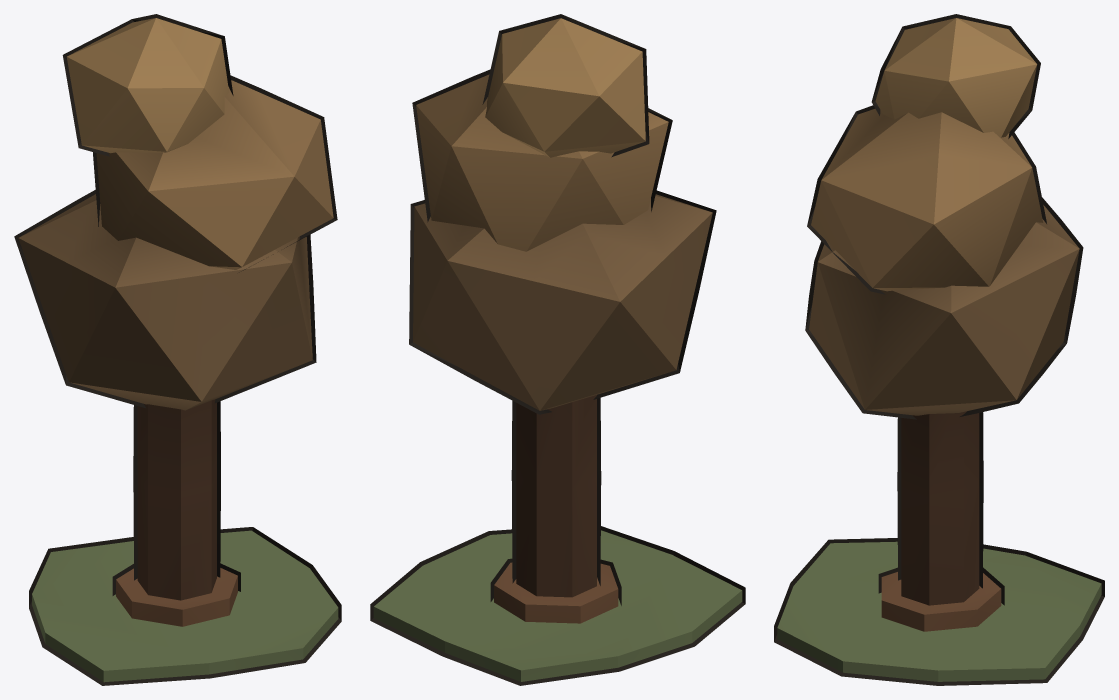
The model's file is arbre_automne.glb.
3 views of the same model, side by side, from view 1: azimuth 30°, elevation 25°; view 2: azimuth 150°, elevation 25°; view 3: azimuth 270°, elevation 25° (orthographic).
Parts seen in each view (by area): view 1: arbre_automne, arbre_automne_outline; view 2: arbre_automne, arbre_automne_outline; view 3: arbre_automne, arbre_automne_outline.
Part boxes in pixels (left/top/right/bottom): arbre_automne: left=18, top=18, right=338, bottom=682; arbre_automne_outline: left=14, top=14, right=341, bottom=685; arbre_automne: left=373, top=18, right=742, bottom=681; arbre_automne_outline: left=370, top=14, right=745, bottom=685; arbre_automne: left=777, top=18, right=1101, bottom=681; arbre_automne_outline: left=774, top=14, right=1104, bottom=685.
Bounding box in the file's own units: 1.03 × 2.1 × 1.05.
